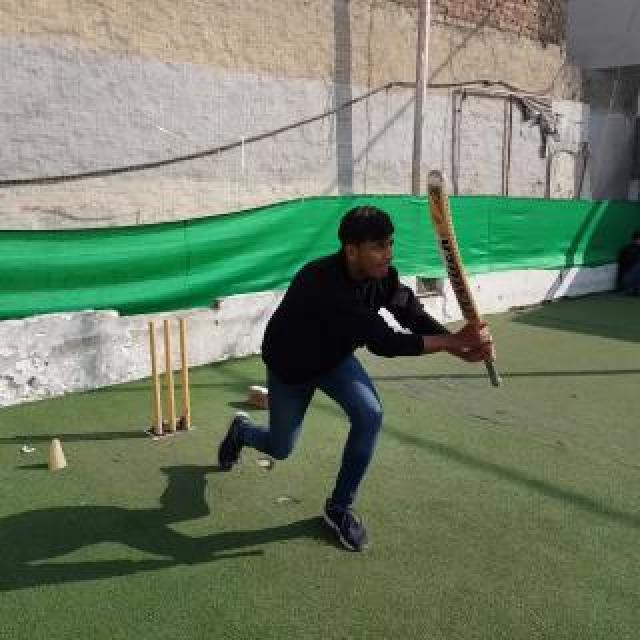bat: (426, 168, 502, 388)
